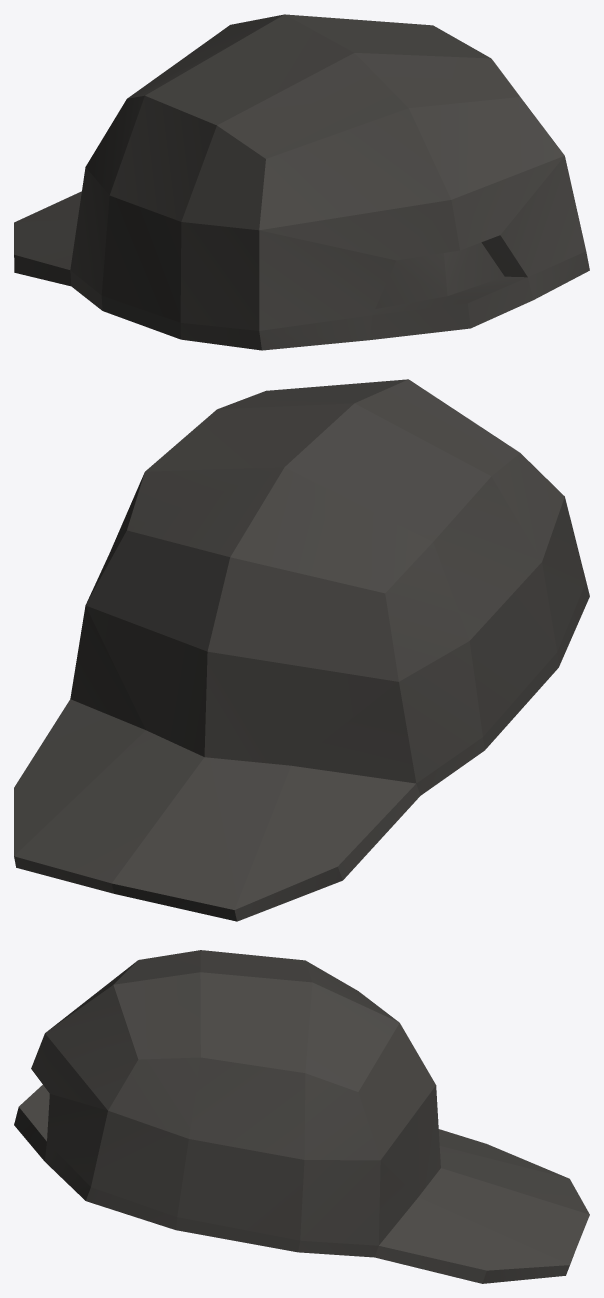
File: Hat_04_SM.FBX
The picture shows the model from 3 angles, top to bottom: view 1: azimuth 30°, elevation 25°; view 2: azimuth 150°, elevation 25°; view 3: azimuth 270°, elevation 25°; orthographic projection. The views are drawn at different scales.
Visible parts, largest first — view 1: Hat_04_SM; view 2: Hat_04_SM; view 3: Hat_04_SM.
Part boxes in pixels (bbox=[...]): Hat_04_SM: bbox=[14, 14, 589, 350]; Hat_04_SM: bbox=[14, 379, 589, 921]; Hat_04_SM: bbox=[14, 950, 589, 1283].
Size of what is drawn, in the model's own units: 21.58 by 35.1 by 17.51.
